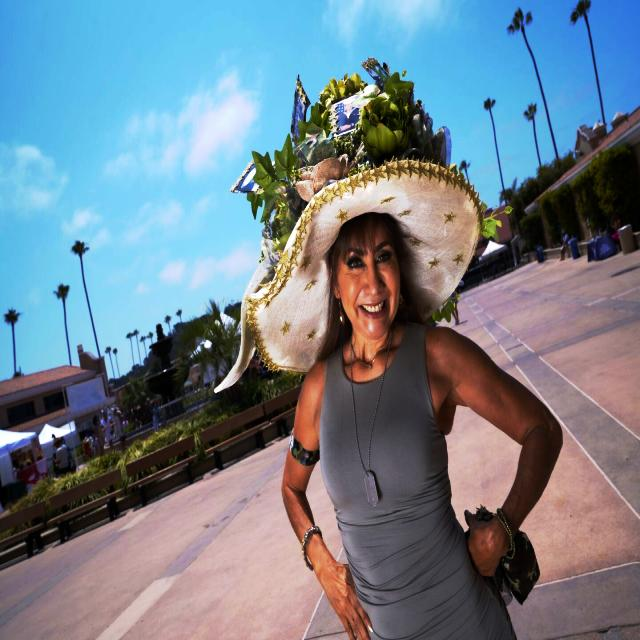TOPI: (239, 148, 485, 378)
